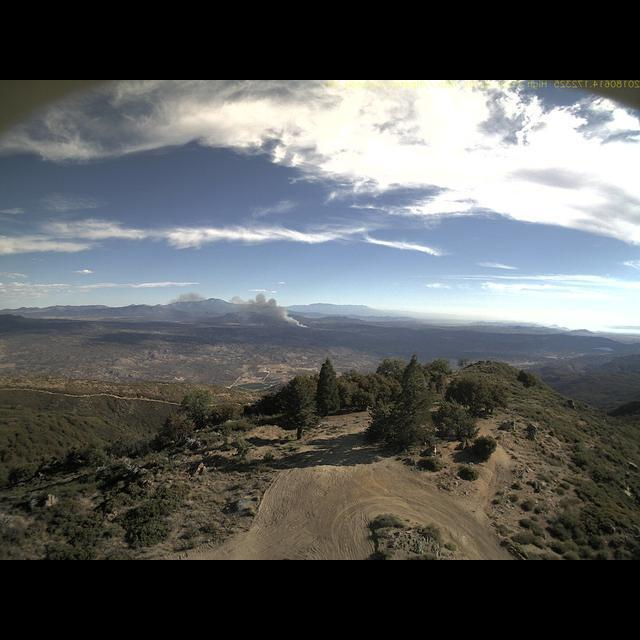Smoke: (207, 290, 311, 327)
